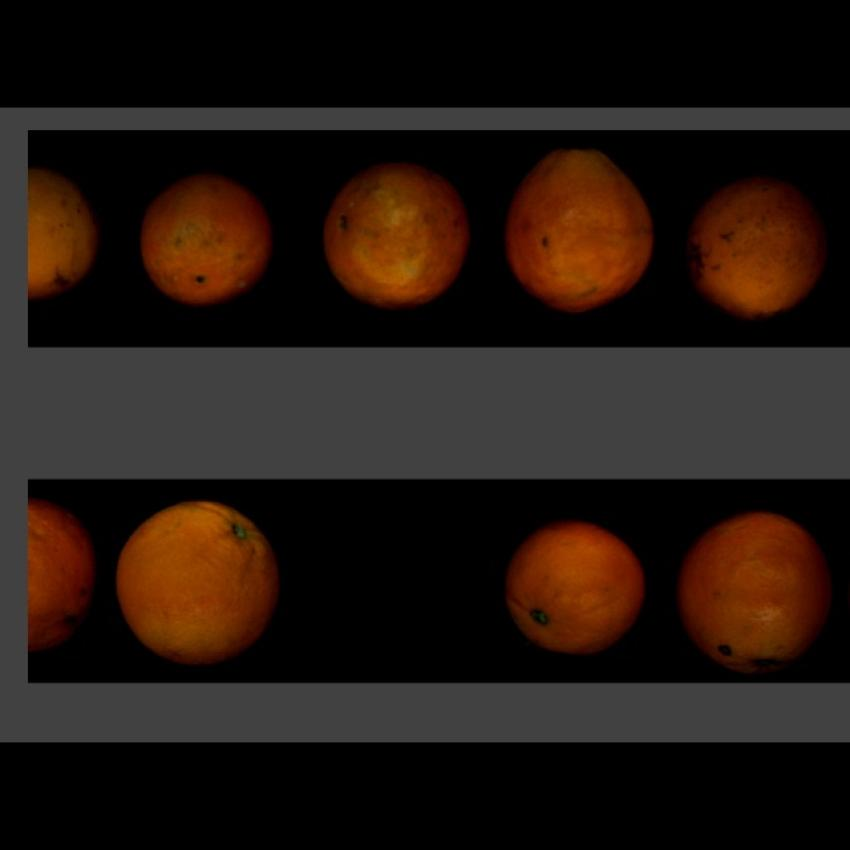Buen estado: (112, 491, 286, 666)
Mal estado: (499, 139, 668, 314), (678, 503, 834, 672), (320, 159, 480, 308), (682, 162, 834, 317), (500, 506, 654, 654), (134, 166, 280, 312), (30, 498, 97, 662), (27, 165, 100, 313)
